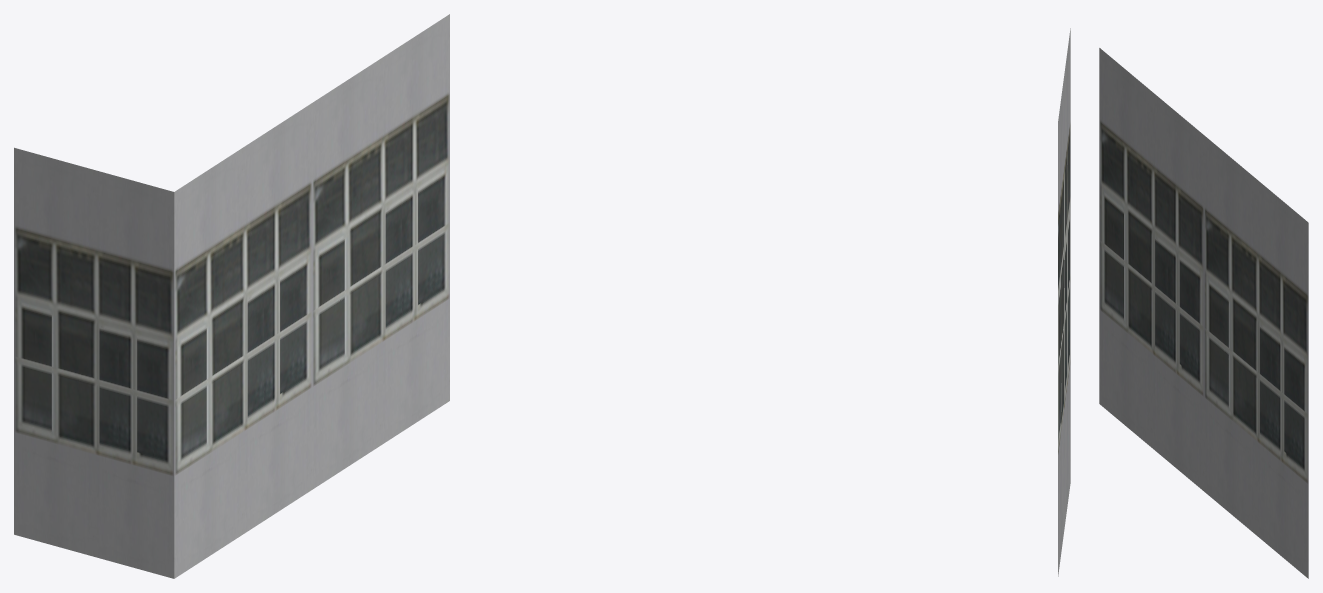
File: myFileName_1089.glb
3 views of the same model, side by side, from view 1: azimuth 30°, elevation 25°; view 2: azimuth 150°, elevation 25°; view 3: azimuth 270°, elevation 25° (orthographic). The views are drawn at different scales.
Bounding box in the file's own units: 8.03 × 6.4 × 3.4.
1 material, 1 textured.
